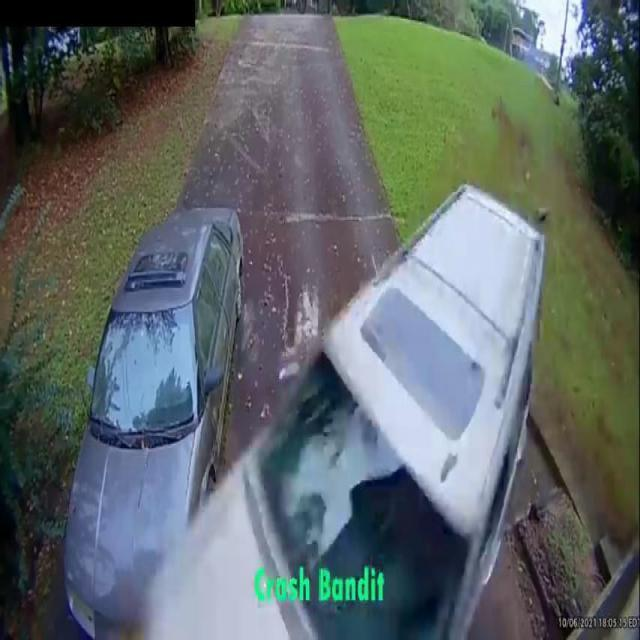moderate: (52, 173, 551, 640)
